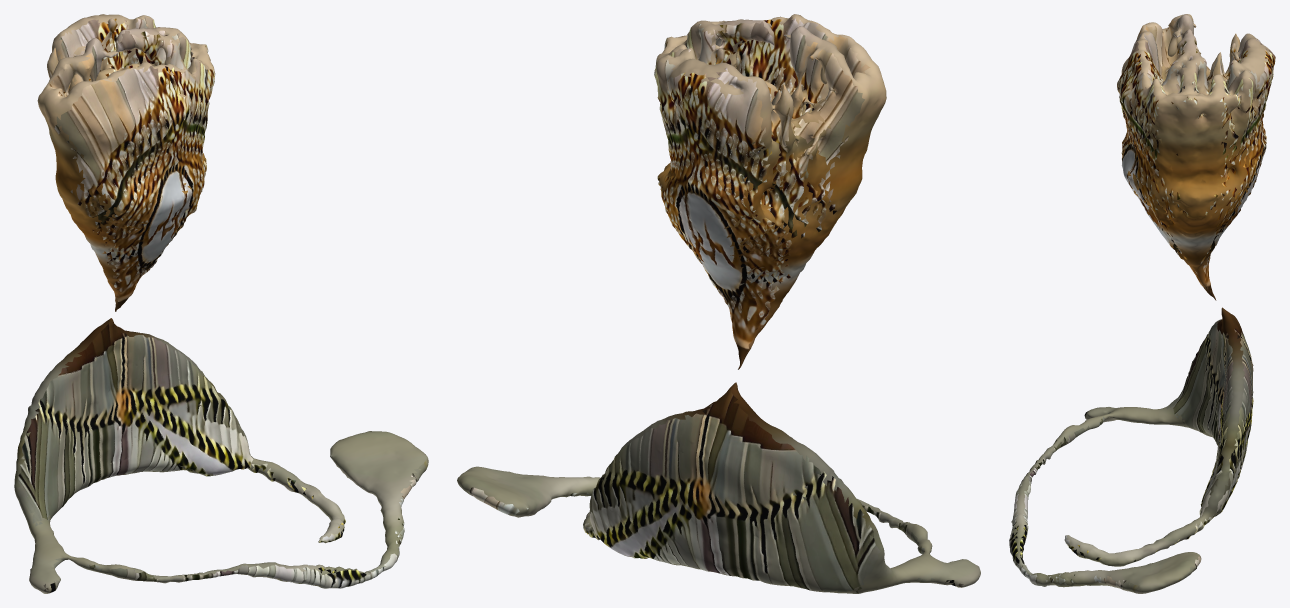
Rendered from kfl-2279.glb.
3 views of the same model, side by side, from view 1: azimuth 30°, elevation 25°; view 2: azimuth 150°, elevation 25°; view 3: azimuth 270°, elevation 25° (orthographic). The views are drawn at different scales.
Parts seen in each view (by area): view 1: kfl-2279; view 2: kfl-2279; view 3: kfl-2279.
Part boxes in pixels (x1,y1,x2,y2): kfl-2279: (14,14,428,593); kfl-2279: (457,14,980,593); kfl-2279: (1009,14,1275,593).
Size of the model in its own units: 0.8255 by 0.9865 by 0.4997.
Materials: 4 (4 with a texture image).
